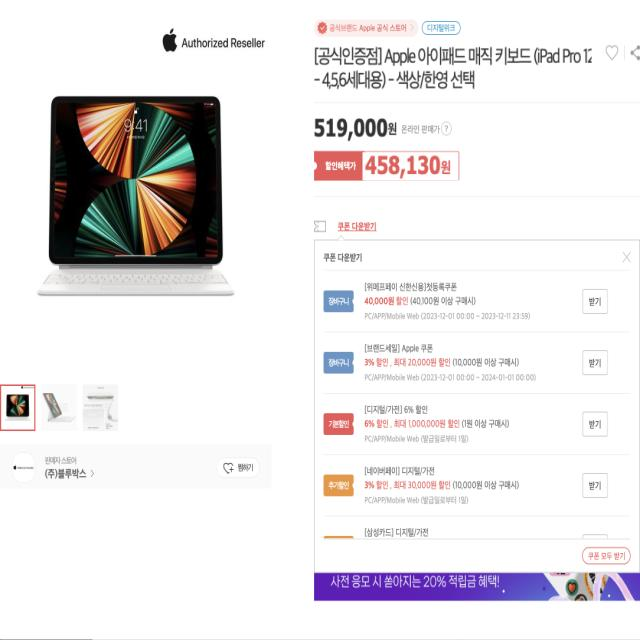product_discount_price: (363, 152, 461, 180)
product_name: (311, 46, 592, 93)
product_original_price: (298, 117, 400, 142)
